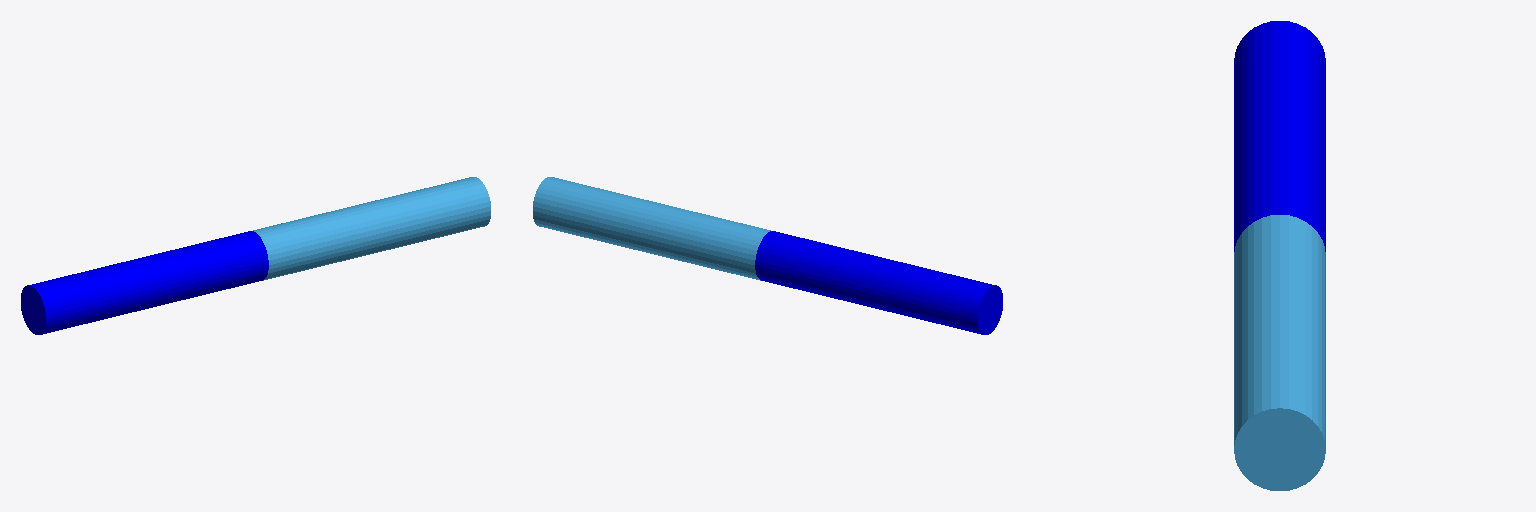
The robot description file, URDF, robot "ball":
<?xml version="1.0"?>
<robot name="ball">
    <!-- Colors -->
    <material name="black">
        <color rgba="0 0 0 1"/>
    </material>

    <material name="red">
        <color rgba="1 0 0 1"/>
    </material>

    <material name="blue">
        <color rgba="0 0 1 1"/>
    </material>


    <!-- Base Link  of Car -->
    <link name="base_link">
        <visual>
            <geometry>
                <cylinder length="5.0" radius="0.5"/>
            </geometry>
            <origin rpy="0 1.57 0" xyz="-2.5 0 0"/>
            <material name="blue"/>
        </visual>
        <collision>
            <geometry>
                <cylinder length="5.0" radius="0.5"/>
            </geometry>
            <origin rpy="0 1.57 0" xyz="-2.5 0 0"/>
            <material name="blue"/>
        </collision>
    </link>

    <link name="child_link1">
        <visual>
            <geometry>
                <cylinder length="5.0" radius="0.5"/>
            </geometry>
            <origin rpy="0 1.57 0" xyz="2.5 0 0"/>
        </visual>
        <collision>
            <geometry>
                <cylinder length="5.0" radius="0.5"/>
            </geometry>
            <origin rpy="0 1.57 0" xyz="2.5 0 0"/>
        </collision>
    </link>

    <joint name="child1_to_base" type="fixed">
        <parent link="base_link"/>
        <child link="child_link1"/>
        <origin xyz="0.0 0.0 0.0"/>
    </joint>

</robot>

--- Facts derived from the render (not from the file) ---
3 views of the same robot in one strip: view 1: azimuth 30°, elevation 25°; view 2: azimuth 150°, elevation 25°; view 3: azimuth 270°, elevation 25° (orthographic).
Robot: ball — 2 links, 1 joints (1 fixed); root link base_link; default pose: all joints at 0.
Visible links, largest first — view 1: base_link, child_link1; view 2: base_link, child_link1; view 3: child_link1, base_link.
Boxes of the visible links, x1,y1,x2,y2 form: base_link: (21, 231, 268, 334); child_link1: (253, 177, 490, 280); base_link: (755, 231, 1002, 334); child_link1: (533, 177, 770, 280); child_link1: (1234, 215, 1325, 490); base_link: (1234, 21, 1325, 251).
Bounding box of the posed robot: 10 × 1 × 1 m (x, y, z).
Geometry: primitives only (box / cylinder / sphere), no mesh files.